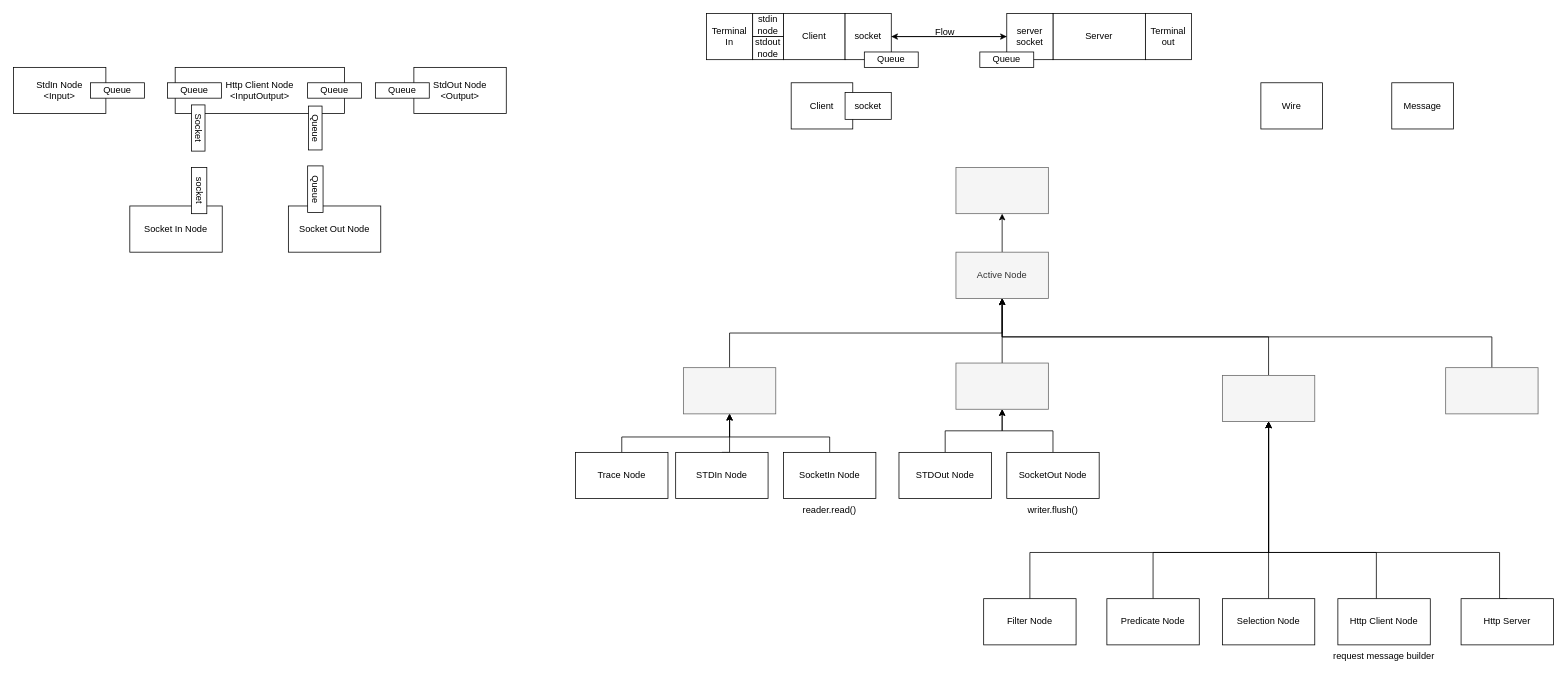
This 1567x681 diagram has some shape labels left out. The shapes that lost their labels are listed below. From the top down, each one's centre as x and y in pixels, then its label:
the point at 1001,190: Node
the point at 729,390: Input Node
the point at 1001,385: Output Node
the point at 1268,398: InputOutput Node
the point at 1491,390: Process Node
